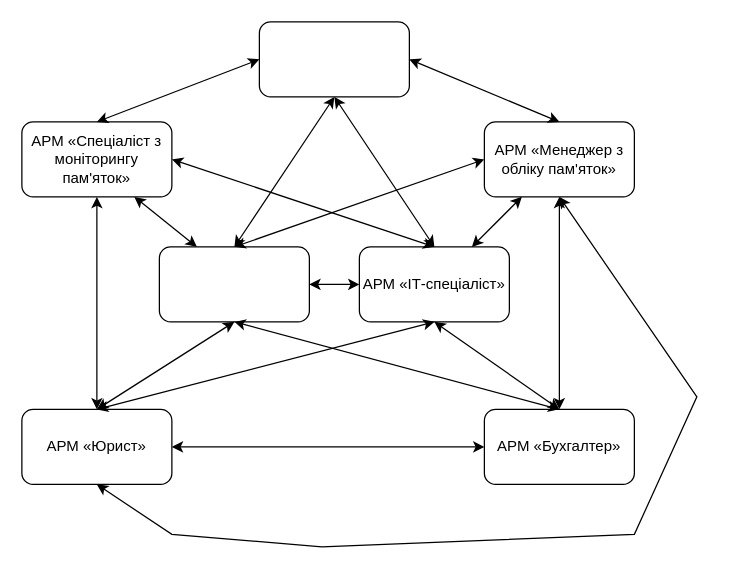
Image size: 730x580. Some labels were removed from this diagram. Here are the shapes that lost their labels. From the top down, the centre of each, then its label:
At (333,59): "АРМ «Інженер з технічного обслуговування»".
At (233,284): "Сервер Percona MySQL".
